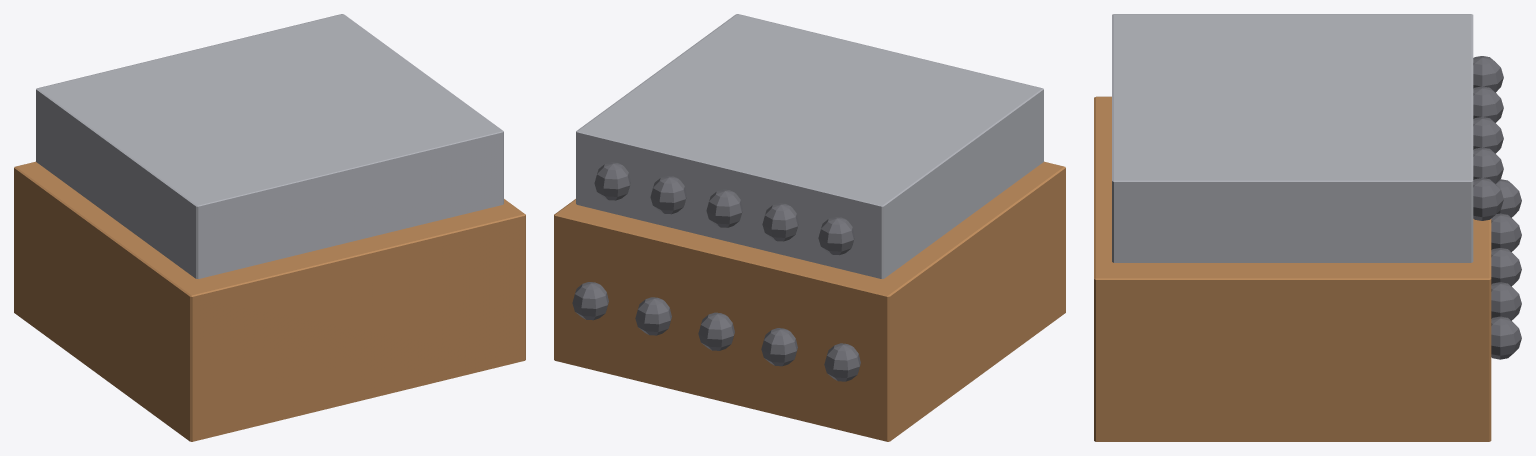
File: rivet-guard.glb
The picture shows the model from 3 angles, left to right: view 1: azimuth 30°, elevation 25°; view 2: azimuth 150°, elevation 25°; view 3: azimuth 270°, elevation 25°; orthographic projection. The views are drawn at different scales.
Parts seen in each view (by area): view 1: skirt, plate; view 2: skirt, plate, rivet.009, rivet.007, rivet.003, rivet.006, rivet.002, rivet.005, rivet, rivet.004, rivet.008, rivet.001; view 3: plate, skirt, rivet, rivet.005, rivet.009, rivet.008, rivet.007, rivet.002, rivet.004, rivet.001, rivet.003, rivet.006.
Part boxes in pixels (x1,y1,x2,y2): skirt: (14, 161, 525, 441); plate: (36, 14, 503, 278); skirt: (554, 161, 1065, 441); plate: (576, 14, 1043, 278); rivet.009: (635, 297, 671, 335); rivet.007: (761, 328, 797, 366); rivet.003: (706, 189, 742, 227); rivet.006: (824, 343, 860, 381); rivet.002: (762, 203, 798, 241); rivet.005: (594, 162, 630, 200); rivet: (572, 282, 608, 320); rivet.004: (650, 176, 686, 214); rivet.008: (698, 312, 734, 350); rivet.001: (818, 217, 854, 255); plate: (1112, 14, 1473, 262); skirt: (1094, 96, 1491, 441); rivet: (1491, 316, 1521, 359); rivet.005: (1473, 178, 1503, 220); rivet.009: (1491, 282, 1521, 320); rivet.008: (1491, 248, 1521, 286); rivet.007: (1491, 213, 1521, 251); rivet.002: (1473, 86, 1503, 122); rivet.004: (1473, 147, 1503, 183); rivet.001: (1473, 56, 1503, 92); rivet.003: (1473, 117, 1503, 153); rivet.006: (1496, 179, 1521, 217).
Bounding box in the file's own units: 0.24 × 0.185 × 0.237.
